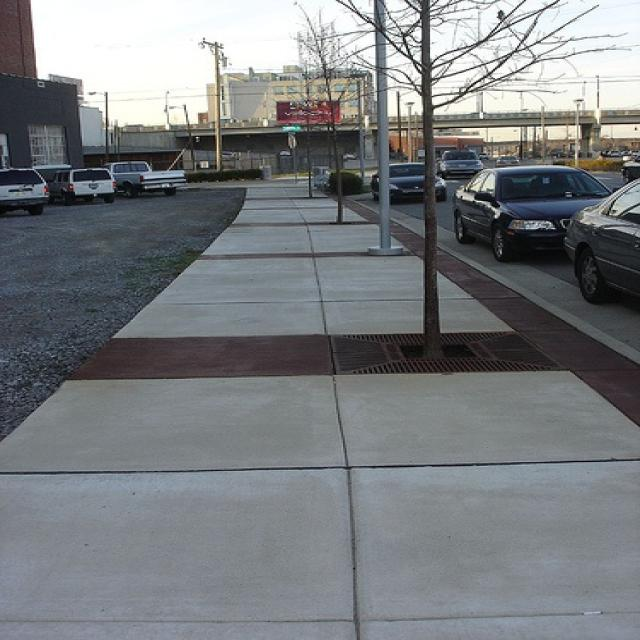car: (452, 162, 618, 258), (565, 177, 638, 307), (97, 158, 186, 200), (370, 160, 450, 204), (43, 166, 116, 204), (0, 167, 49, 217), (438, 150, 484, 178)
